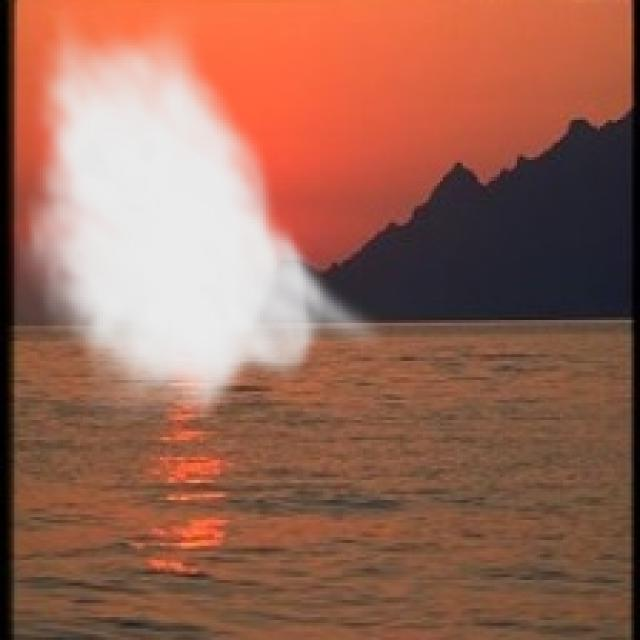smoke: (17, 6, 389, 428)
